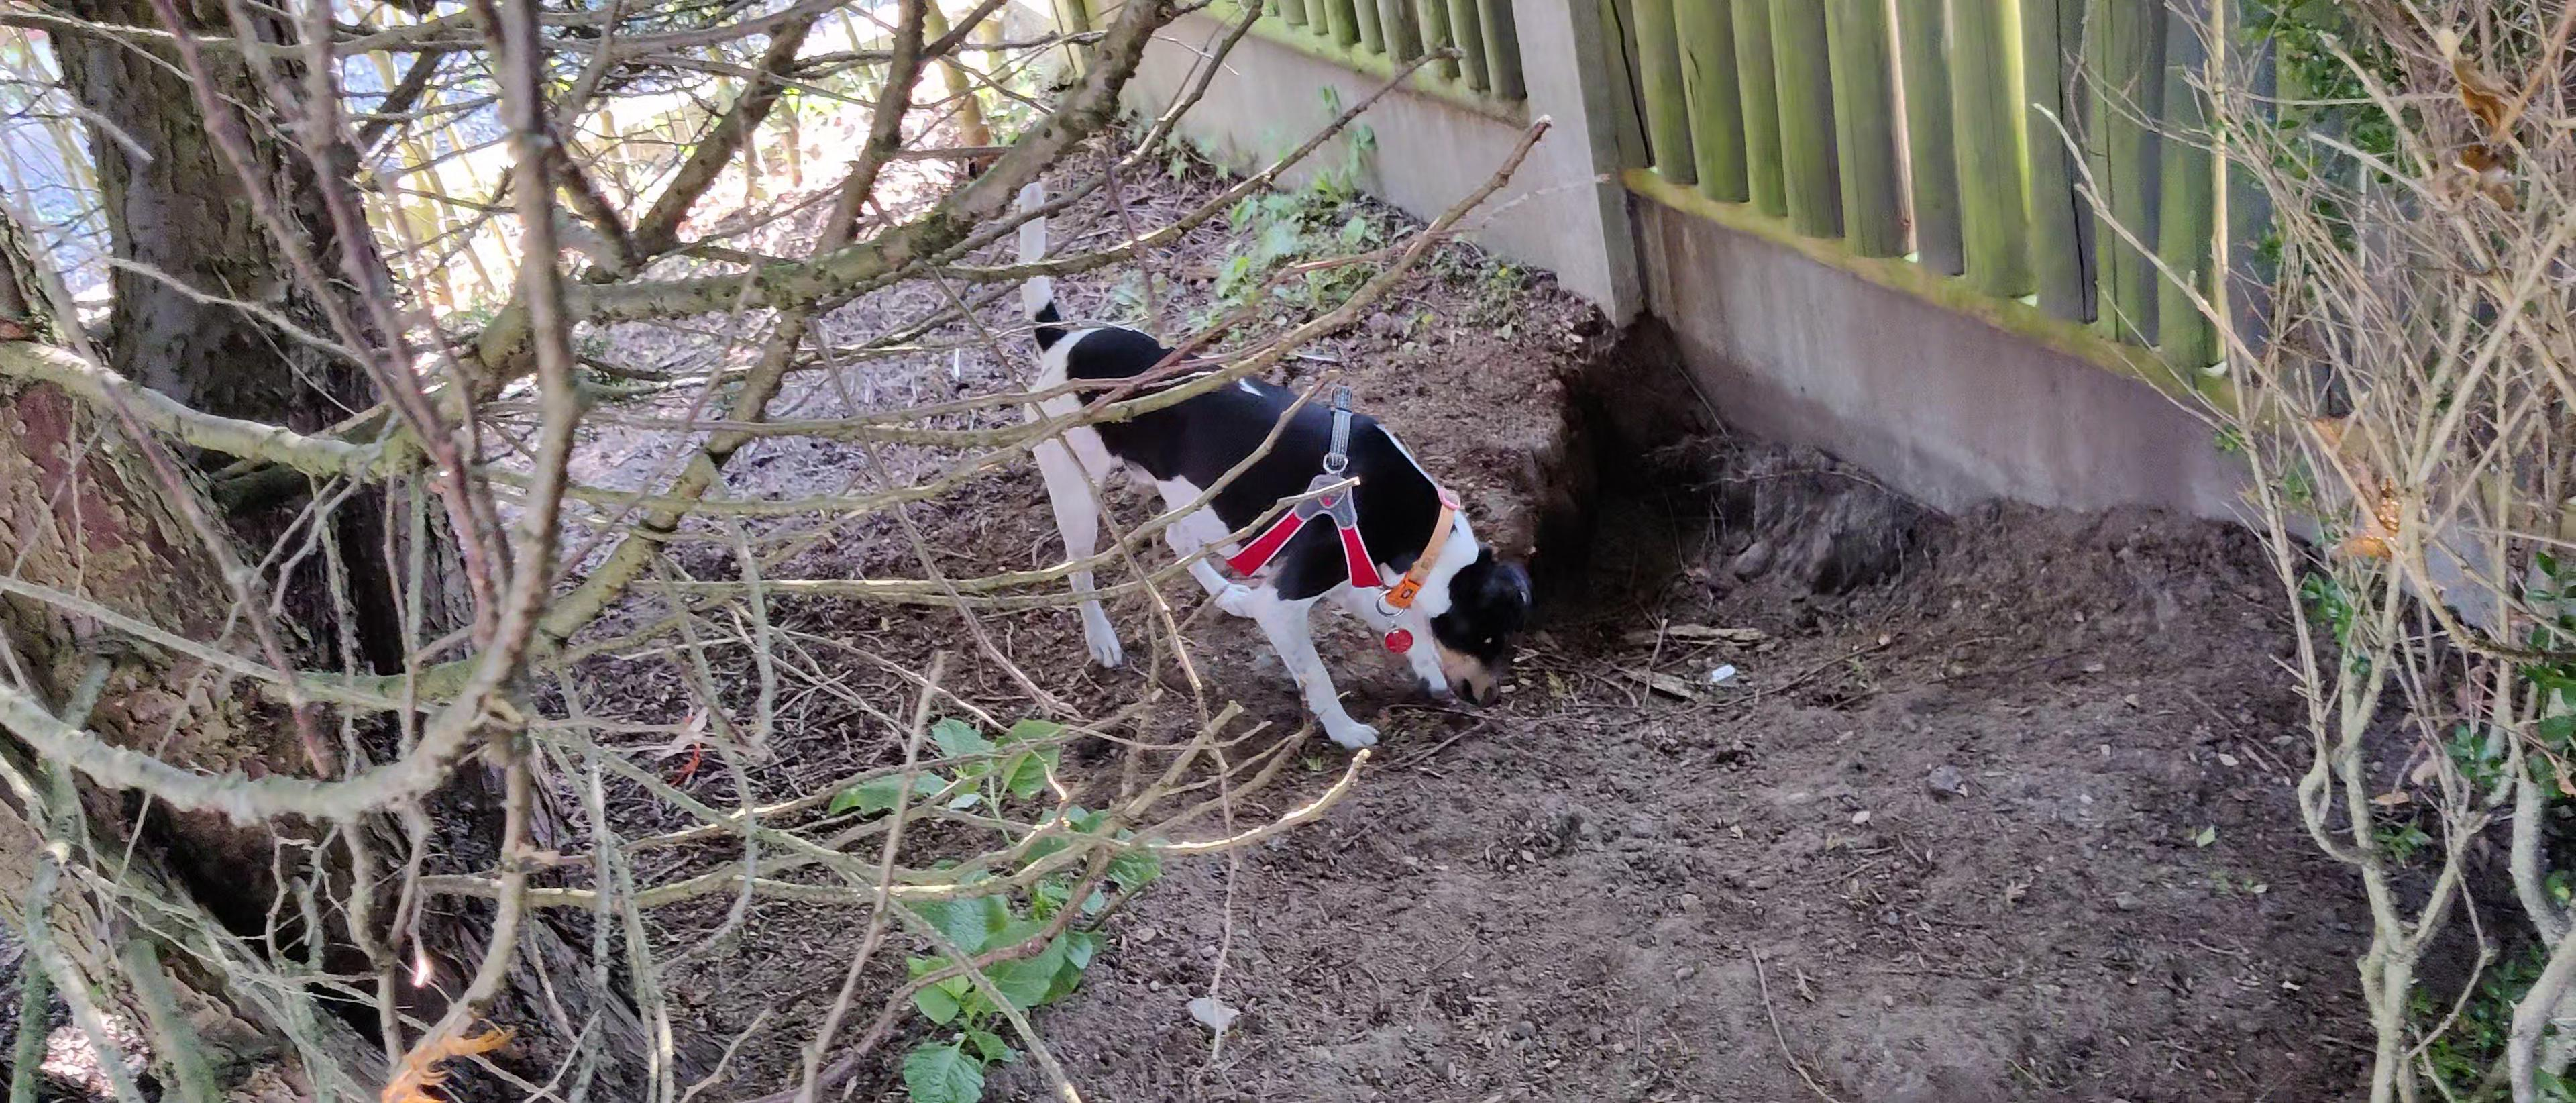Dog: (979, 123, 1541, 763)
